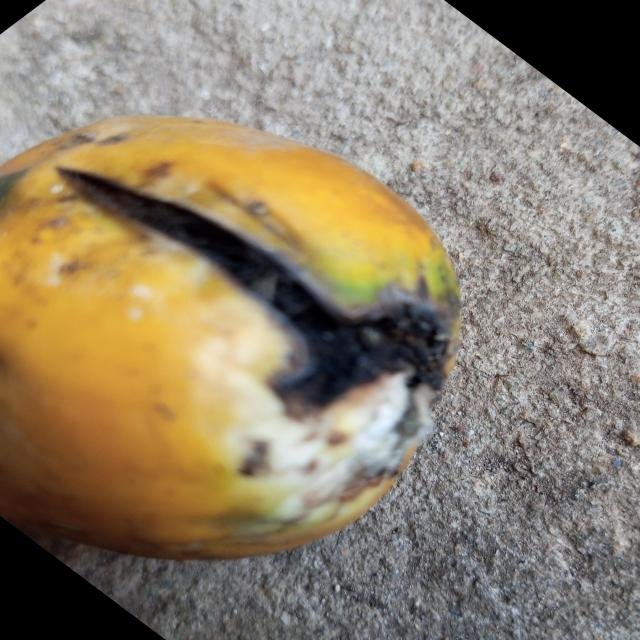damaged: (0, 116, 460, 559)
